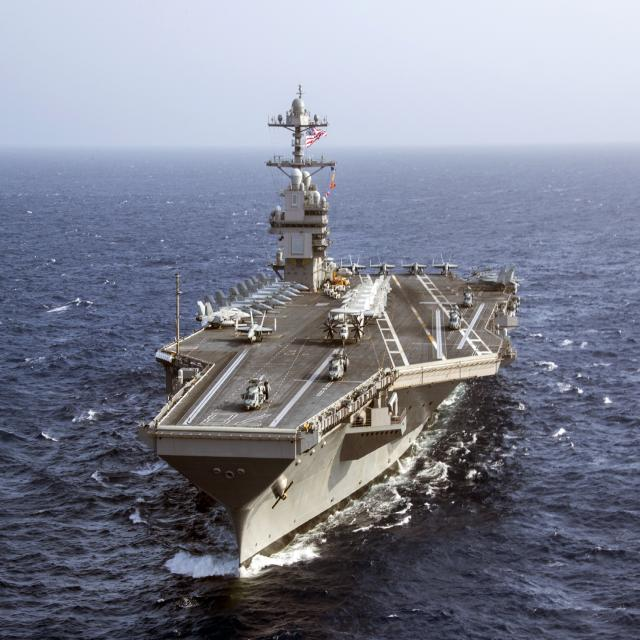navalvessels: (130, 92, 522, 573)
